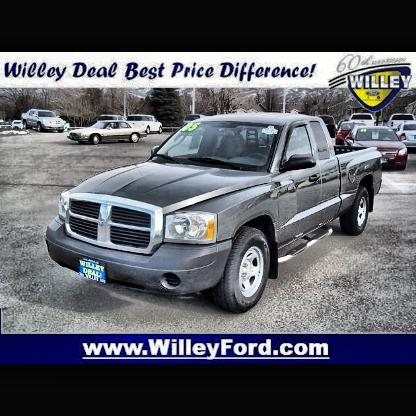Dodge Dakota Club Cab 2007: (49, 114, 382, 314)
